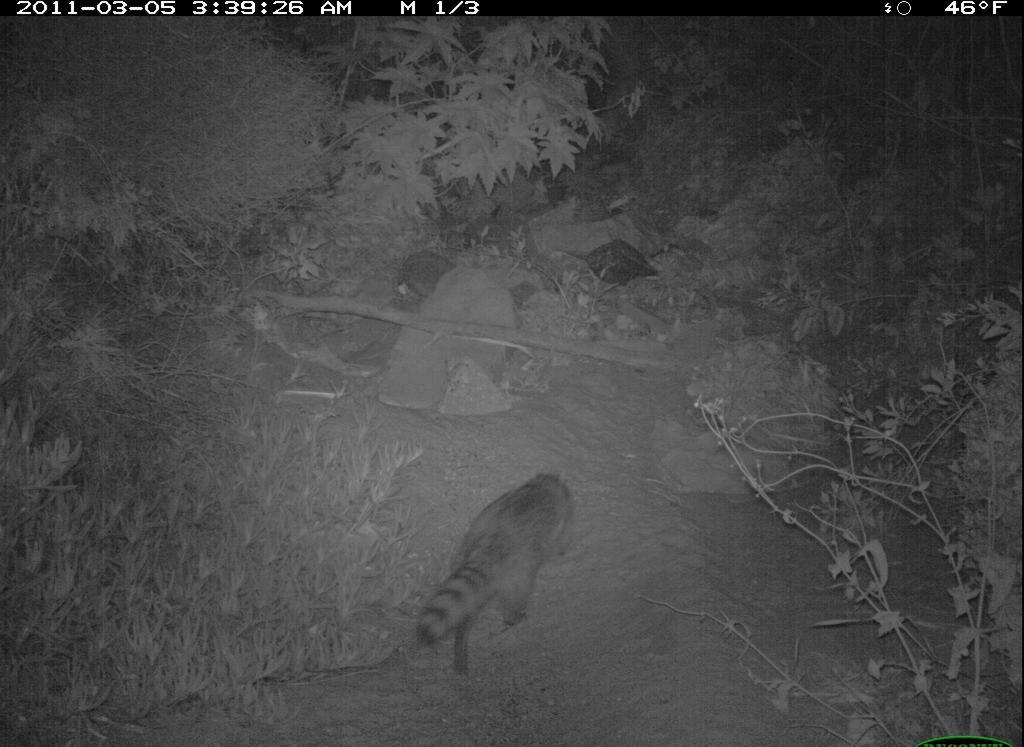raccoon: (415, 460, 582, 681)
